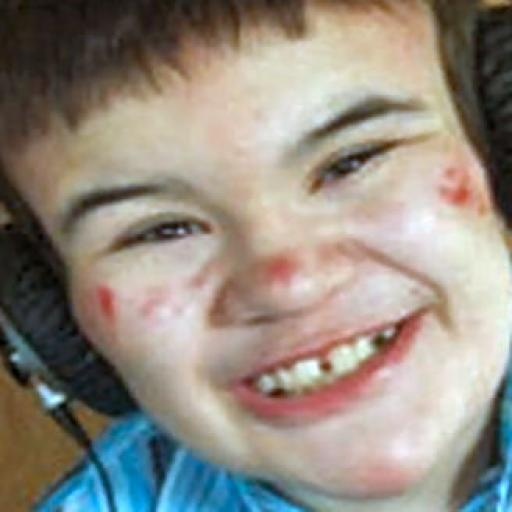Autism: (12, 7, 512, 512)
